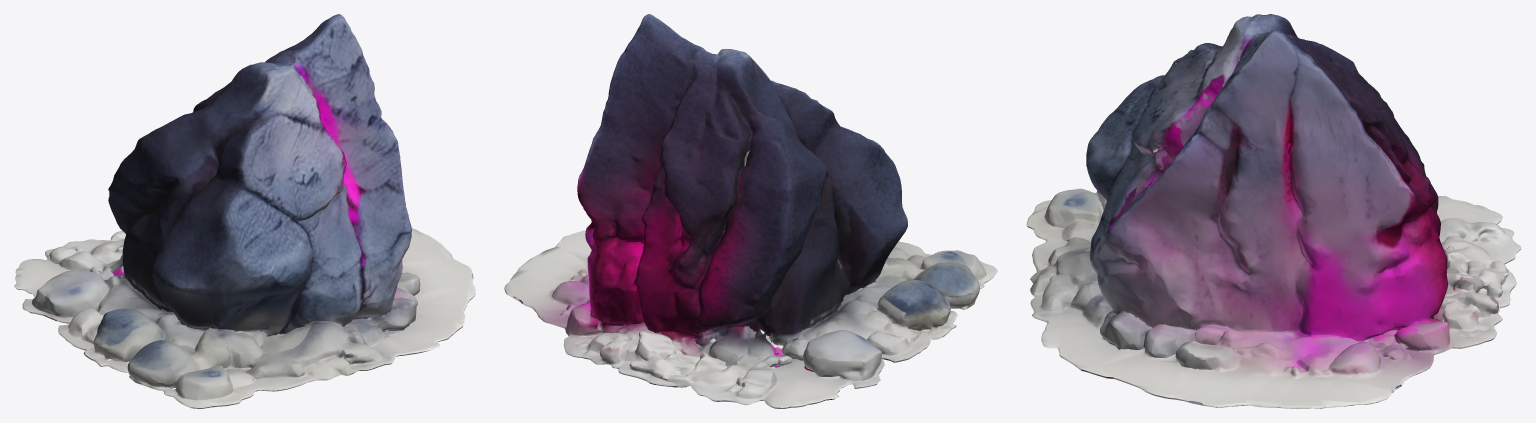
Rendered from shore-stone-3-generated-2026-05-17T19-58-56-912Z.high.glb.
The picture shows the model from 3 angles, left to right: view 1: azimuth 30°, elevation 25°; view 2: azimuth 150°, elevation 25°; view 3: azimuth 270°, elevation 25°; orthographic projection. The views are drawn at different scales.
Parts seen in each view (by area): view 1: temp_mesh.ply; view 2: temp_mesh.ply; view 3: temp_mesh.ply.
Part boxes in pixels (x1,y1,x2,y2): temp_mesh.ply: (14,14,475,408); temp_mesh.ply: (504,14,997,408); temp_mesh.ply: (1026,14,1521,408).
Size of the model in its own units: 1.97 by 1.31 by 1.86.
1 material, 1 textured.
